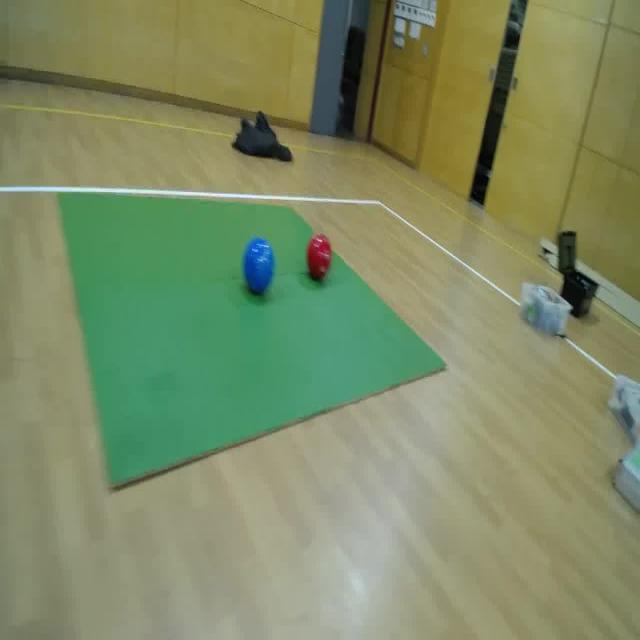blue_ball: (242, 234, 274, 294)
red_ball: (303, 233, 332, 284)
